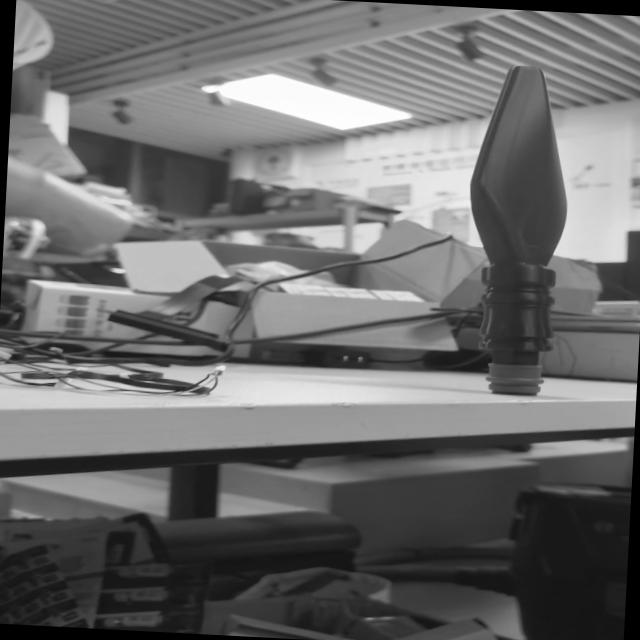base: (482, 359, 549, 399)
